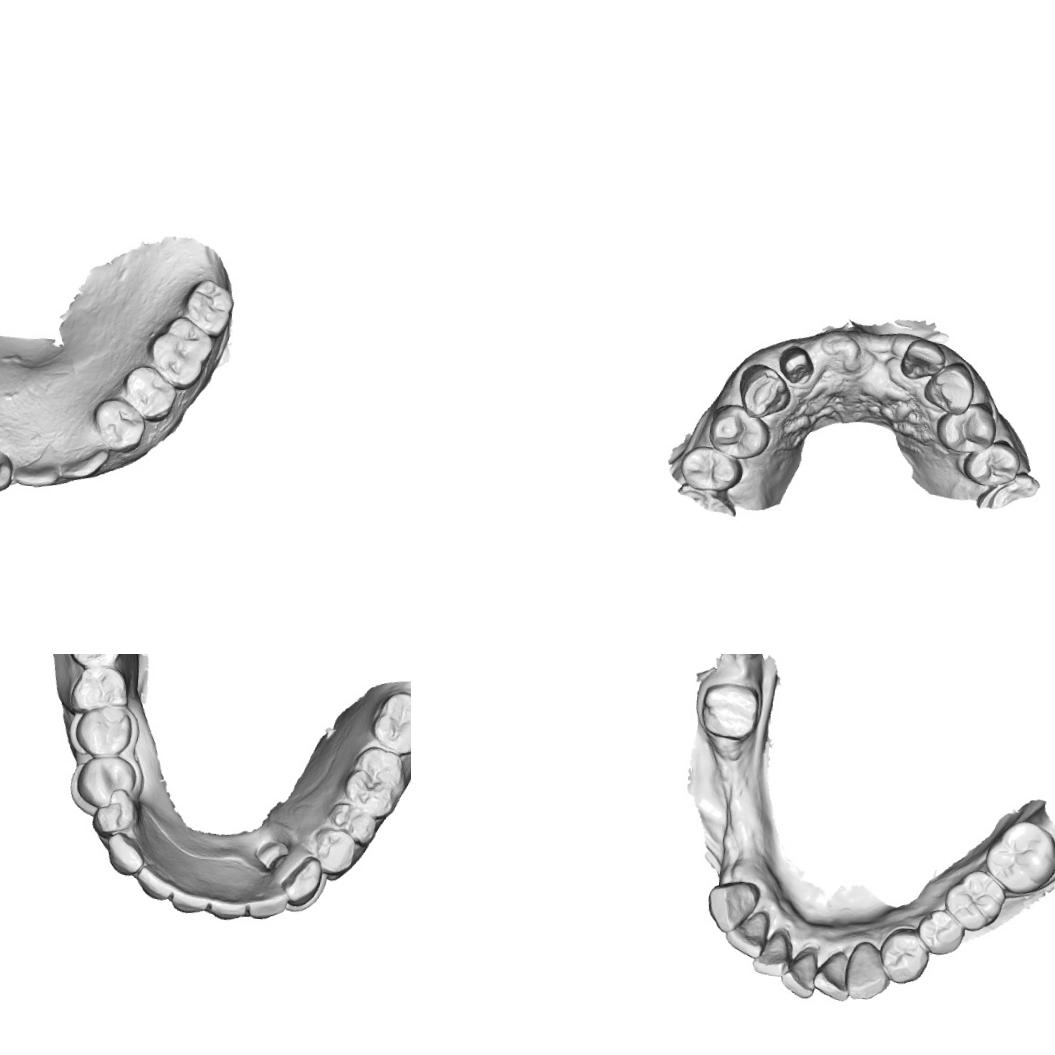canine: (704, 876, 762, 936), (735, 362, 793, 420), (842, 938, 892, 1002), (921, 358, 975, 416), (280, 853, 324, 908), (102, 826, 147, 878), (60, 444, 109, 483)
crown: (696, 677, 762, 742)
incisor: (722, 905, 771, 960), (750, 925, 798, 979), (12, 440, 62, 489), (810, 946, 852, 1003), (776, 946, 818, 1001), (898, 336, 946, 382), (242, 876, 290, 921), (205, 878, 251, 923), (166, 871, 212, 916), (134, 858, 178, 902), (776, 344, 815, 384), (0, 441, 15, 492)
molar: (981, 816, 1055, 898), (144, 313, 216, 392), (339, 743, 410, 820), (940, 865, 1007, 934), (179, 274, 236, 340), (65, 662, 131, 718), (365, 687, 411, 759), (65, 654, 126, 670)
premolar: (71, 700, 137, 761), (705, 402, 772, 460), (72, 752, 138, 810), (933, 398, 998, 456), (119, 362, 179, 424), (875, 924, 932, 987), (89, 396, 148, 456), (676, 443, 744, 494), (960, 436, 1022, 488), (914, 905, 966, 958), (312, 823, 360, 880), (324, 800, 382, 846)
